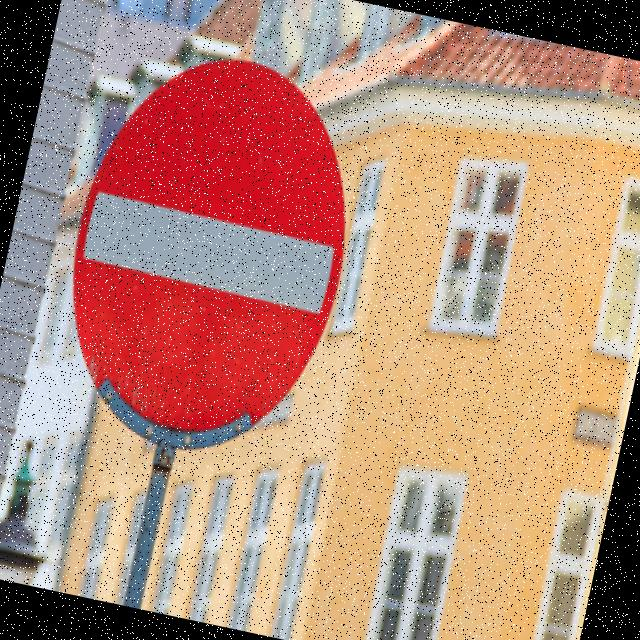do_not_enter: (25, 28, 388, 476)
